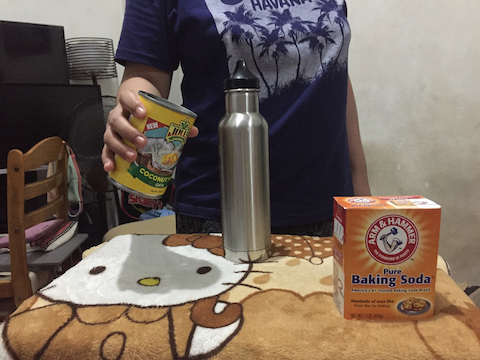bottle: (217, 55, 278, 264)
box: (329, 191, 445, 320)
can: (107, 86, 199, 202)
grab: (92, 89, 151, 177)
